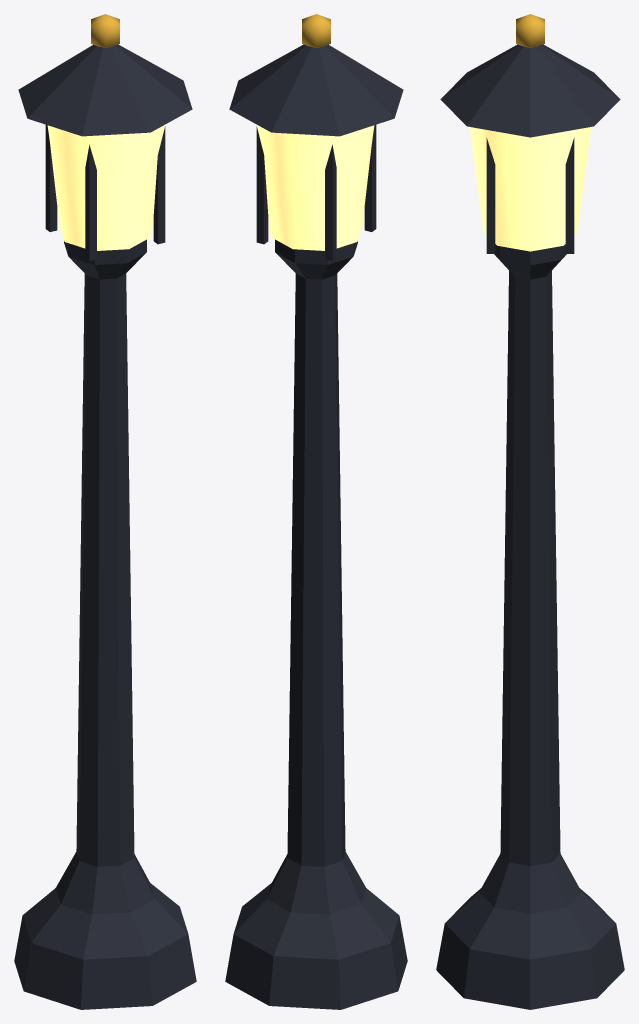
File: prop-lamp-post.glb
The picture shows the model from 3 angles, left to right: view 1: azimuth 30°, elevation 25°; view 2: azimuth 150°, elevation 25°; view 3: azimuth 270°, elevation 25°; orthographic projection.
Parts seen in each view (by area): view 1: lamp_g_iron, lamp_g_window, lamp_g_gold; view 2: lamp_g_iron, lamp_g_window, lamp_g_gold; view 3: lamp_g_iron, lamp_g_window, lamp_g_gold.
Part boxes in pixels (x1=…): lamp_g_iron: x1=14, y1=44, x2=196, y2=1009; lamp_g_window: x1=47, y1=125, x2=165, y2=250; lamp_g_gold: x1=91, y1=14, x2=119, y2=47; lamp_g_iron: x1=225, y1=44, x2=407, y2=1009; lamp_g_window: x1=256, y1=125, x2=374, y2=250; lamp_g_gold: x1=302, y1=14, x2=330, y2=47; lamp_g_iron: x1=436, y1=44, x2=624, y2=1009; lamp_g_window: x1=469, y1=127, x2=591, y2=251; lamp_g_gold: x1=516, y1=14, x2=544, y2=47.
Size of the model in its own units: 0.44 by 2.46 by 0.44.
